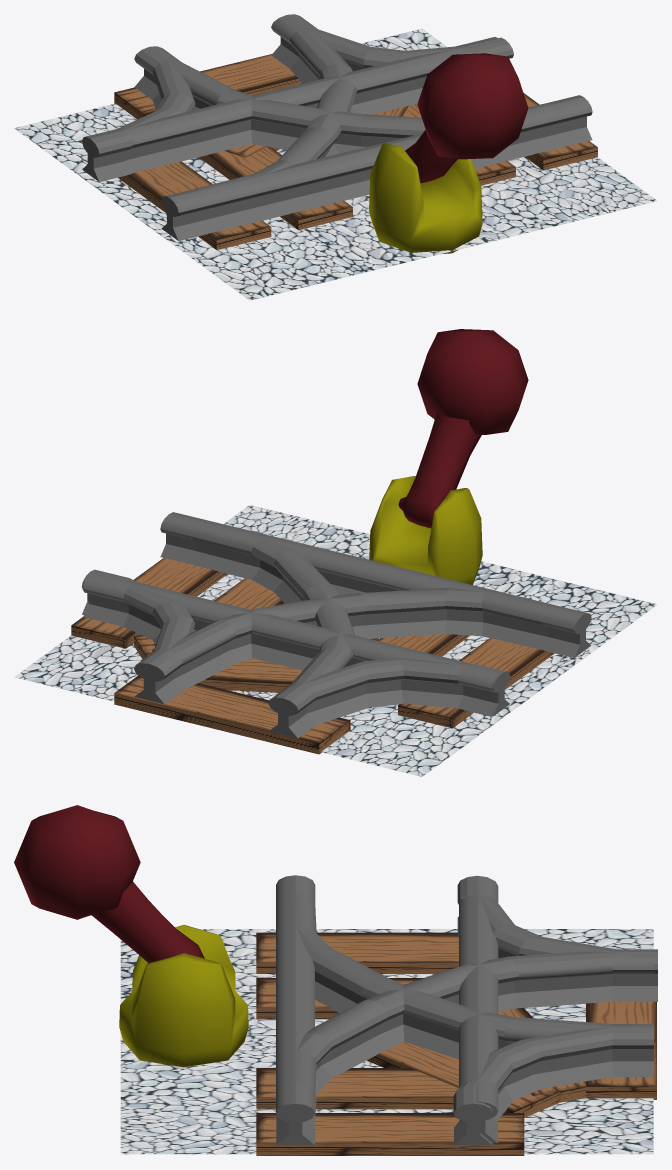
Rendered from IntersectionTripleWithSwitch.fbx.
The picture shows the model from 3 angles, top to bottom: view 1: azimuth 30°, elevation 25°; view 2: azimuth 150°, elevation 25°; view 3: azimuth 270°, elevation 25°; orthographic projection. The views are drawn at different scales.
Parts seen in each view (by area): view 1: Plane, rail, rail.001, Cube.001, Cube, railExterieur, railExterieur.001, railIntérieur.001, planche.009, planche.001, railIntérieur, planche.008 (+3 smaller); view 2: Plane, railExterieur.001, Cube.001, railExterieur, rail.001, railIntérieur.001, Cube, planche.001, rail, railIntérieur, planche.009, planche (+4 smaller); view 3: Plane, railExterieur, Cube.001, Cube, railIntérieur, railExterieur.001, planche, rail.001, rail, planche.005, planche.009, railIntérieur.001 (+4 smaller).
Boxes of the visible parts, left/top/right/bottom form: Plane: left=14, top=28, right=657, bottom=300; rail: left=172, top=98, right=588, bottom=240; rail.001: left=83, top=37, right=500, bottom=172; Cube.001: left=405, top=53, right=528, bottom=183; Cube: left=369, top=143, right=482, bottom=253; railExterieur: left=151, top=47, right=592, bottom=153; railExterieur.001: left=161, top=15, right=356, bottom=240; railIntérieur.001: left=82, top=46, right=195, bottom=181; planche.009: left=118, top=161, right=271, bottom=249; planche.001: left=114, top=54, right=301, bottom=119; railIntérieur: left=287, top=14, right=513, bottom=71; planche.008: left=199, top=146, right=352, bottom=230; Plane: left=14, top=505, right=657, bottom=776; railExterieur.001: left=136, top=587, right=591, bottom=704; Cube.001: left=398, top=329, right=528, bottom=528; railExterieur: left=160, top=512, right=354, bottom=729; rail.001: left=83, top=573, right=499, bottom=716; railIntérieur.001: left=268, top=657, right=510, bottom=738; Cube: left=369, top=476, right=482, bottom=584; planche.001: left=114, top=675, right=350, bottom=754; rail: left=173, top=513, right=584, bottom=614; railIntérieur: left=81, top=569, right=195, bottom=703; planche.009: left=398, top=638, right=554, bottom=728; planche: left=71, top=558, right=217, bottom=648; Plane: left=120, top=929, right=653, bottom=1154; railExterieur: left=276, top=951, right=653, bottom=1145; Cube.001: left=14, top=805, right=204, bottom=962; Cube: left=119, top=925, right=248, bottom=1067; railIntérieur: left=453, top=1027, right=653, bottom=1145; railExterieur.001: left=276, top=875, right=653, bottom=1059; planche: left=256, top=1113, right=524, bottom=1155; rail.001: left=459, top=876, right=498, bottom=1142; rail: left=276, top=876, right=314, bottom=1142; planche.005: left=256, top=1068, right=458, bottom=1109; planche.009: left=256, top=932, right=458, bottom=973; railIntérieur.001: left=457, top=875, right=657, bottom=1001.
Bounding box in the file's own units: 3042 × 1513 × 3623.
